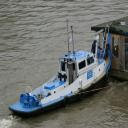tugboat: (9, 29, 113, 122)
